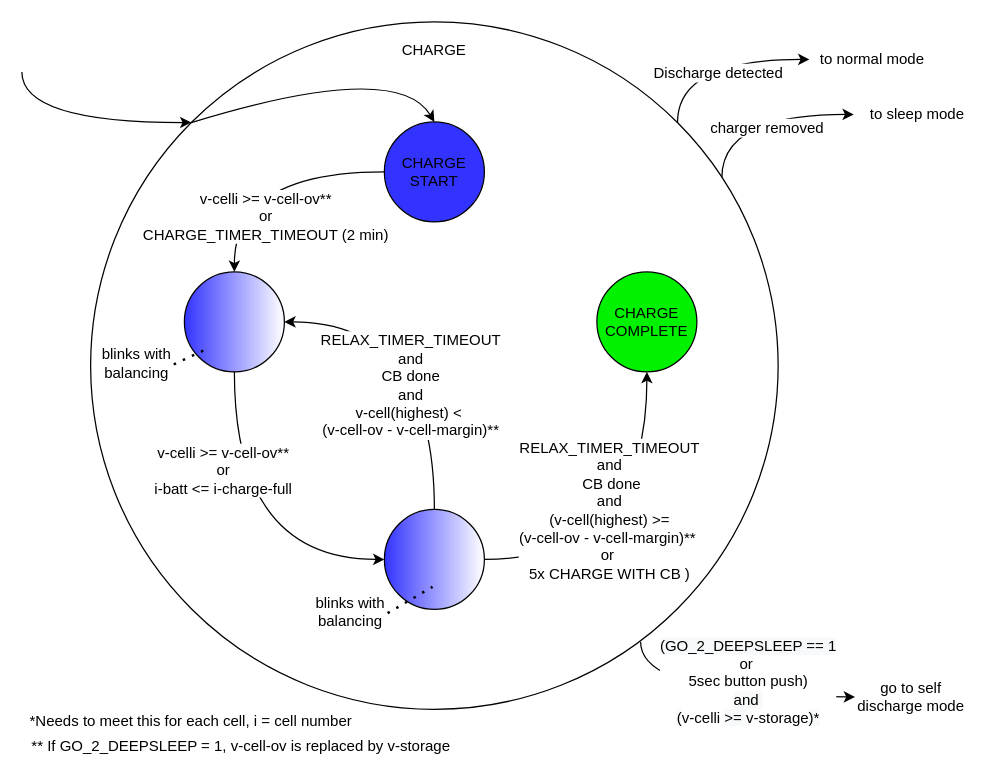
Some shapes in this 994 by 781 pixel diagram are drawn without their labels. Here are the shapes that lost their labels. From the top down, the centre of each, then its label:
At point 233,321: "CHARGE WITH CB".
At point 433,558: "RELAXATION".
